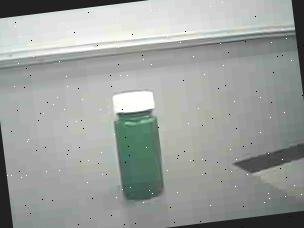Bottle C: (97, 80, 181, 214)
